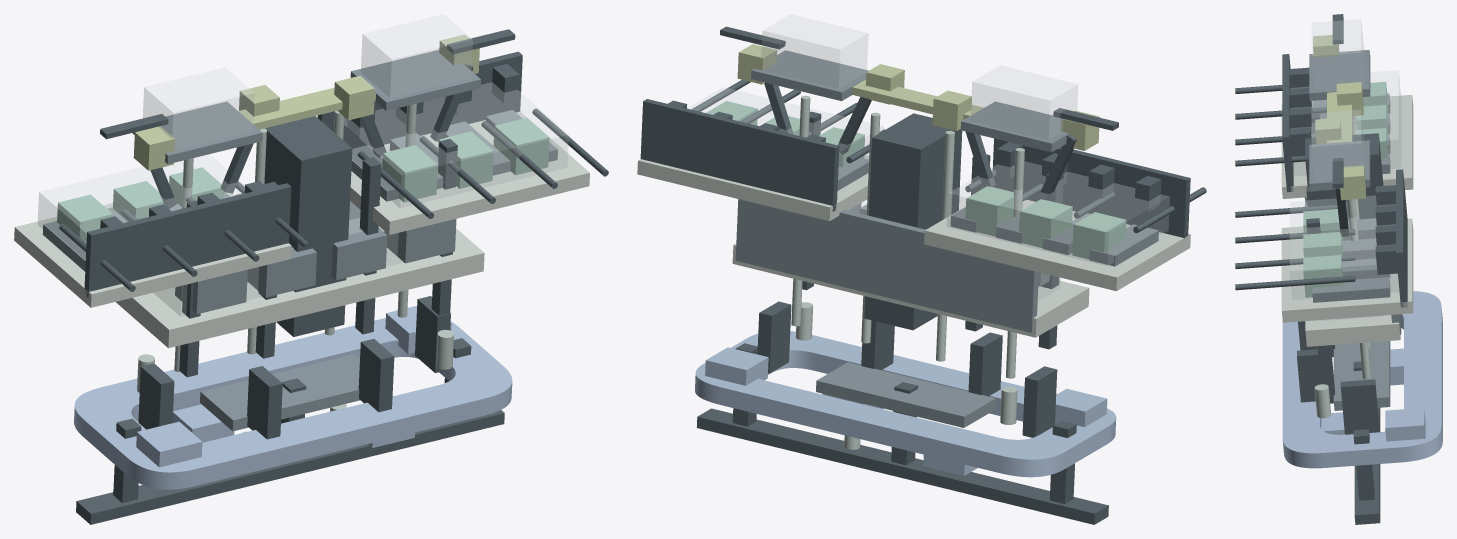
File: cross-section.glb
3 views of the same model, side by side, from view 1: azimuth 30°, elevation 25°; view 2: azimuth 150°, elevation 25°; view 3: azimuth 270°, elevation 25° (orthographic). The views are drawn at different scales.
Parts seen in each view (by area): view 1: ProgramLoop_Track, NetworkLayer, OperationsSpine, LabDeckEast_GlassCanopy, ProgramLoop, LabDeckEast, LabDeckWest_RearFrame, OperationsSpine_MainDeck, OperationsSpine_Core, LabDeckWest_GlassCanopy, LabDeckWest, LabDeckEast_Platform (+7 smaller); view 2: NetworkLayer, OperationsSpine_BackWall, ProgramLoop_Track, LabDeckWest_GlassCanopy, ProgramLoop, LabDeckEast_RearFrame, LabDeckWest, OperationsSpine_Core, SupportFrame_BaseRail, LabDeckWest_RearFrame, LabDeckWest_Platform, ProgramLoop_CenterDeck (+7 smaller); view 3: ProgramLoop_Track, NetworkLayer, LabDeckEast, LabDeckEast_GlassCanopy, ProgramLoop, LabDeckWest, LabDeckEast_Platform, LabDeckWest_GlassCanopy, LabDeckWest_Platform, ProgramLoop_CenterDeck, OperationsSpine_MainDeck, OperationsSpine (+6 smaller).
Boxes of the visible parts, x1,y1,x2,y2 form: ProgramLoop_Track: [74, 318, 512, 489]; NetworkLayer: [100, 14, 515, 208]; OperationsSpine: [174, 103, 457, 377]; LabDeckEast_GlassCanopy: [343, 82, 568, 207]; ProgramLoop: [136, 296, 454, 467]; LabDeckEast: [347, 64, 608, 218]; LabDeckWest_RearFrame: [84, 183, 291, 297]; OperationsSpine_MainDeck: [116, 226, 484, 348]; OperationsSpine_Core: [264, 116, 352, 336]; LabDeckWest_GlassCanopy: [38, 154, 244, 259]; LabDeckWest: [42, 167, 310, 291]; LabDeckEast_Platform: [350, 111, 589, 234]; NetworkLayer: [720, 14, 1118, 200]; OperationsSpine_BackWall: [735, 199, 1038, 332]; ProgramLoop_Track: [695, 331, 1116, 477]; LabDeckWest_GlassCanopy: [947, 161, 1169, 265]; ProgramLoop: [705, 301, 1107, 475]; LabDeckEast_RearFrame: [640, 99, 839, 211]; LabDeckWest: [950, 142, 1206, 266]; OperationsSpine_Core: [864, 113, 962, 330]; SupportFrame_BaseRail: [696, 408, 1108, 524]; LabDeckWest_RearFrame: [992, 138, 1190, 238]; LabDeckWest_Platform: [924, 199, 1190, 291]; ProgramLoop_CenterDeck: [816, 362, 995, 427]; ProgramLoop_Track: [1282, 291, 1442, 468]; NetworkLayer: [1309, 14, 1370, 236]; LabDeckEast: [1235, 185, 1397, 302]; LabDeckEast_GlassCanopy: [1290, 196, 1398, 299]; ProgramLoop: [1297, 321, 1425, 441]; LabDeckWest: [1235, 67, 1390, 173]; LabDeckEast_Platform: [1281, 218, 1413, 322]; LabDeckWest_GlassCanopy: [1291, 70, 1400, 175]; LabDeckWest_Platform: [1281, 95, 1413, 198]; ProgramLoop_CenterDeck: [1333, 341, 1390, 410]; OperationsSpine_MainDeck: [1305, 315, 1400, 346]; OperationsSpine: [1304, 113, 1370, 379].
Size of the model in its own units: 8.22 by 6.64 by 3.49.
